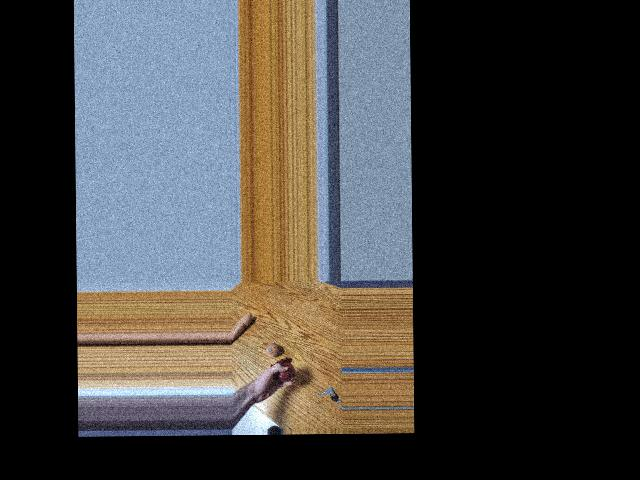onion: (277, 362, 295, 380)
